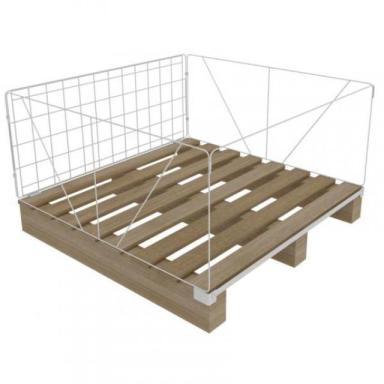pallet: (18, 137, 365, 334)
